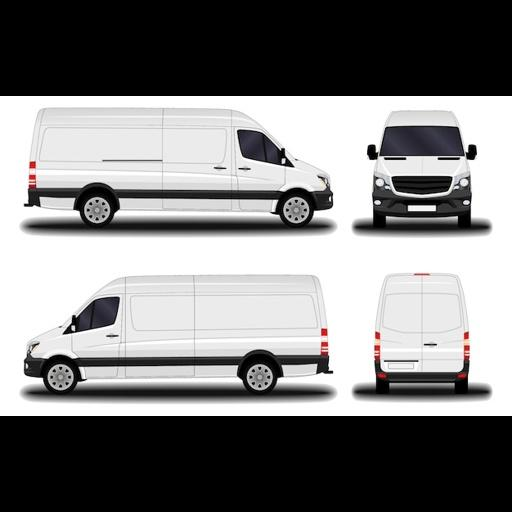van: (20, 271, 335, 395), (22, 109, 334, 230), (368, 111, 479, 231), (372, 272, 472, 390)
